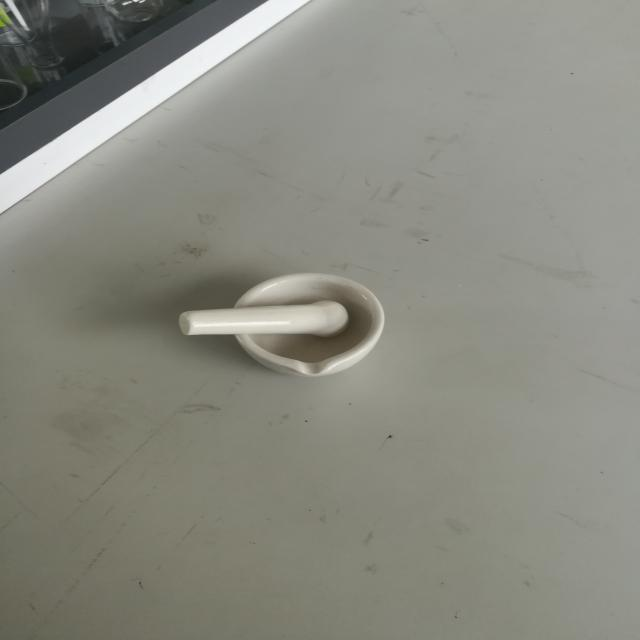Porcelain_Mortar Pestle: (146, 250, 432, 410)
